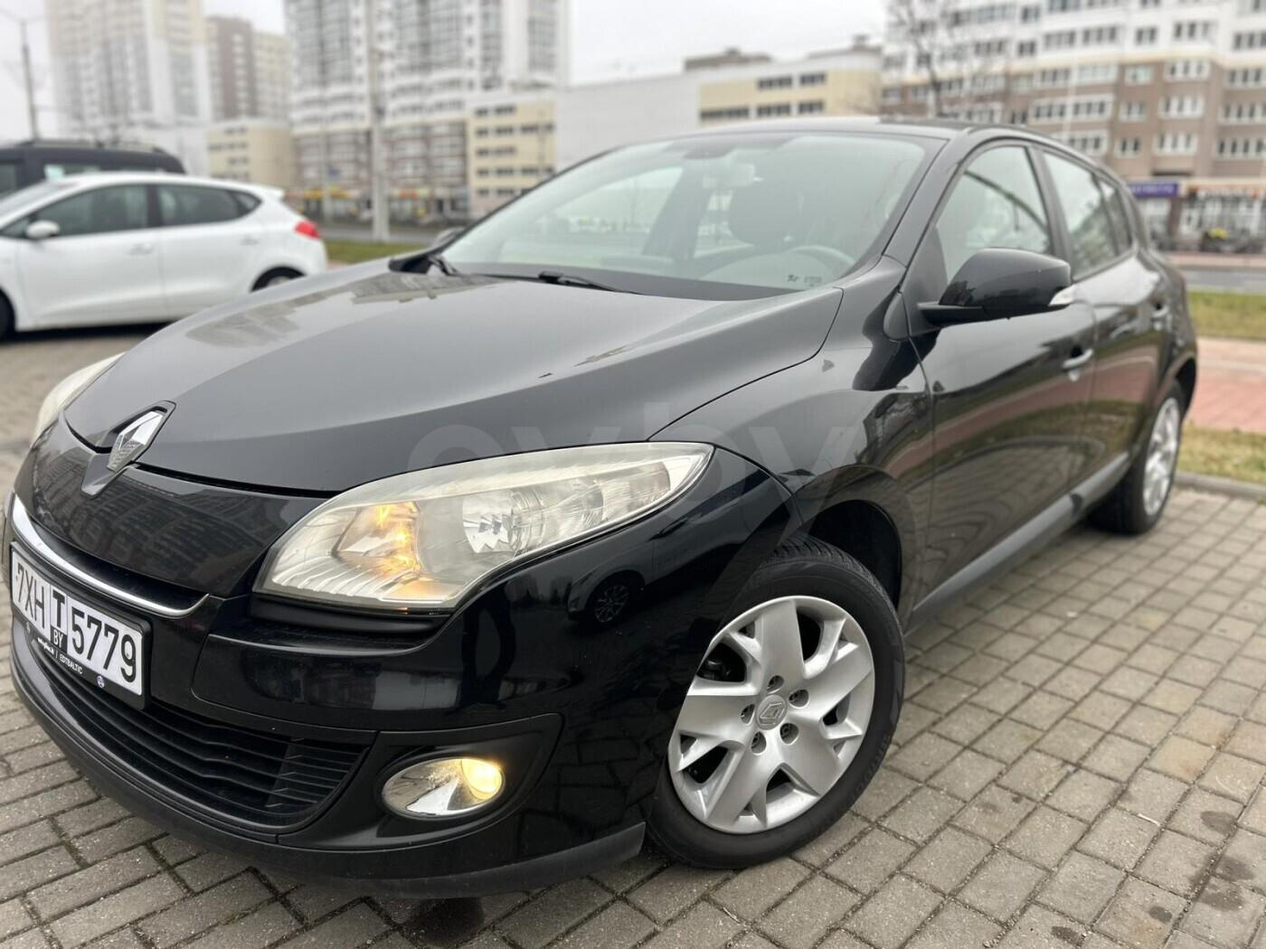Megane_2008-2014: (0, 113, 1204, 913)
